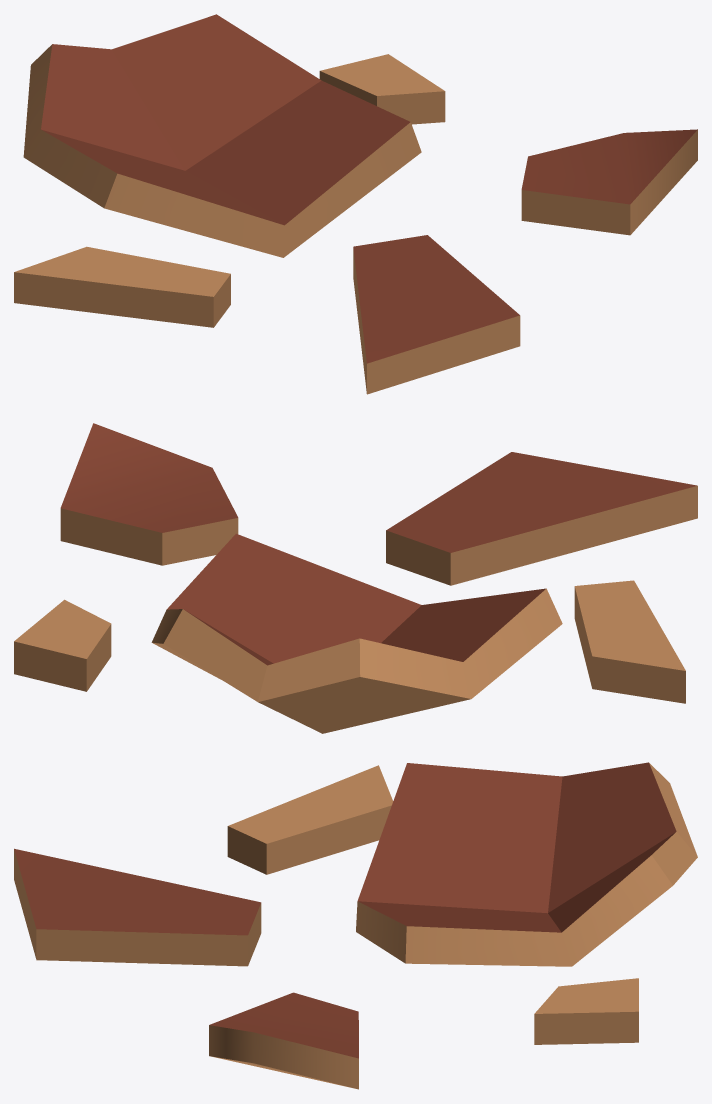
File: Jarron_Roto-2.FBX
3 views of the same model, one above another, from view 1: azimuth 30°, elevation 25°; view 2: azimuth 150°, elevation 25°; view 3: azimuth 270°, elevation 25° (orthographic). The views are drawn at different scales.
Visible parts, largest first — view 1: Jarron_Roto-2; view 2: Jarron_Roto-2; view 3: Jarron_Roto-2.
Boxes of the visible parts, bbox=[...] form: Jarron_Roto-2: bbox=[14, 14, 697, 394]; Jarron_Roto-2: bbox=[14, 423, 697, 733]; Jarron_Roto-2: bbox=[14, 762, 697, 1089].
Size of the model in its own units: 57.83 by 12.72 by 55.
1 material, 1 textured.
